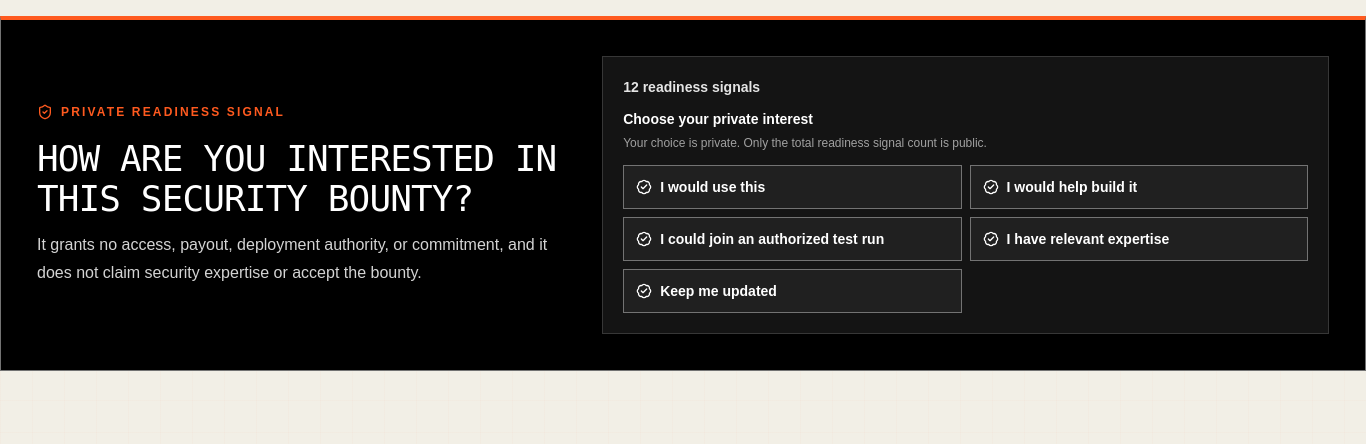
Test: IdeaInterestPanel › preserves the established meaning of stored private intent values
The image size is (1366, 444).
Click the button "I could join an authorized test run" at (792, 239), box [623, 217, 962, 261]
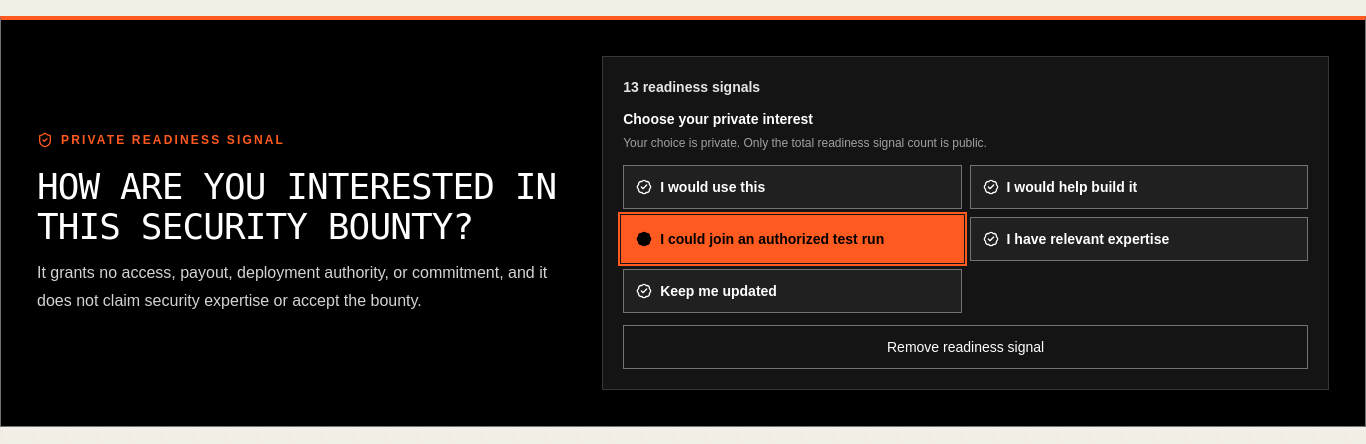
Expected: the text "13 readiness signals" is shown, [623, 79, 760, 95]
